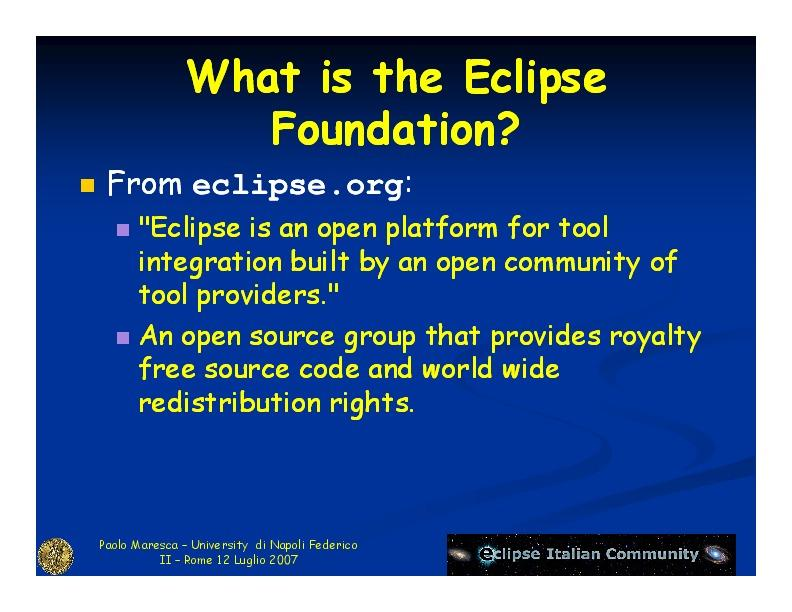paragraph: (74, 165, 719, 431)
subtitle: (95, 512, 752, 573)
title: (177, 46, 618, 155)
